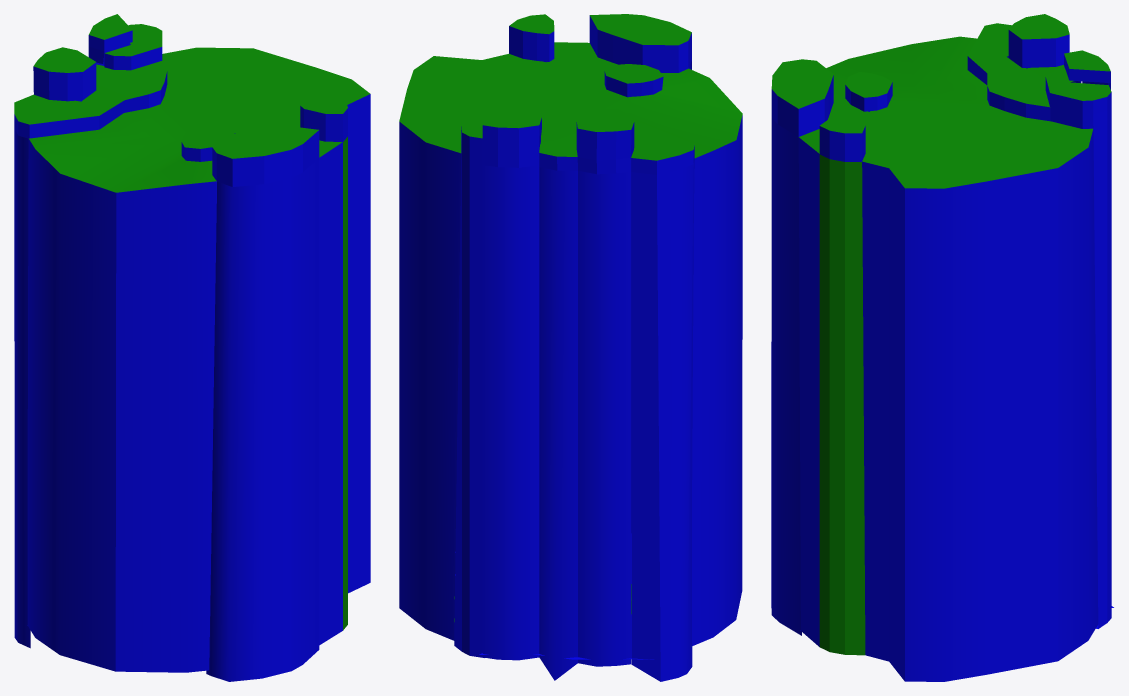
Rendered from A3_Colliders_02.FBX.
The picture shows the model from 3 angles, left to right: view 1: azimuth 30°, elevation 25°; view 2: azimuth 150°, elevation 25°; view 3: azimuth 270°, elevation 25°; orthographic projection.
Visible parts, largest first — view 1: A3_Altura12_1, A3_Altura14_1, A3_Altura13_1, A3_Altura15_1; view 2: A3_Altura12_1, A3_Altura15_1, A3_Altura13_1, A3_Altura14_1; view 3: A3_Altura12_1, A3_Altura14_1, A3_Altura13_1, A3_Altura15_1.
Boxes of the visible parts, bbox=[...] form: A3_Altura12_1: bbox=[27, 47, 370, 672]; A3_Altura14_1: bbox=[104, 24, 347, 681]; A3_Altura13_1: bbox=[14, 60, 235, 648]; A3_Altura15_1: bbox=[33, 14, 132, 101]; A3_Altura12_1: bbox=[399, 42, 742, 659]; A3_Altura15_1: bbox=[482, 109, 634, 666]; A3_Altura13_1: bbox=[539, 64, 694, 681]; A3_Altura14_1: bbox=[454, 14, 691, 657]; A3_Altura12_1: bbox=[798, 36, 1113, 681]; A3_Altura14_1: bbox=[771, 59, 1111, 655]; A3_Altura13_1: bbox=[845, 23, 1081, 121]; A3_Altura15_1: bbox=[1008, 14, 1110, 89].
Bounding box in the file's own units: 68.55 × 117 × 65.44.
